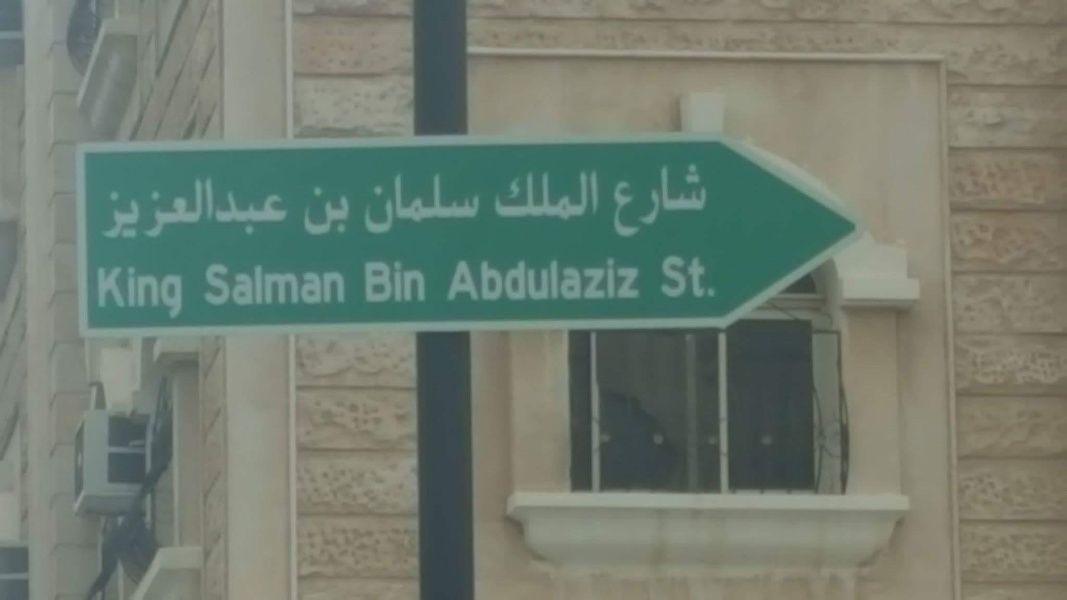text: (625, 161, 640, 240), (641, 161, 656, 240), (657, 161, 672, 240), (673, 161, 688, 240), (689, 161, 704, 240), (273, 176, 289, 241), (113, 176, 128, 241), (129, 176, 144, 241), (145, 176, 160, 241), (161, 176, 176, 241), (177, 176, 192, 241), (193, 176, 208, 241), (209, 176, 224, 241), (225, 176, 240, 241), (241, 176, 256, 241), (257, 176, 272, 241), (369, 171, 384, 235), (385, 171, 400, 235), (401, 171, 416, 235), (417, 171, 432, 235), (433, 171, 448, 235), (449, 171, 464, 235), (465, 171, 480, 235), (612, 161, 624, 240), (97, 263, 112, 320), (113, 263, 128, 320), (129, 263, 144, 320), (145, 263, 160, 320), (161, 263, 176, 320), (497, 167, 512, 223), (513, 167, 528, 223), (529, 167, 544, 223), (545, 167, 560, 223), (561, 167, 576, 223), (577, 167, 592, 223), (305, 184, 320, 238), (321, 184, 336, 238), (337, 184, 352, 238), (673, 253, 688, 302), (689, 253, 704, 302), (449, 255, 464, 304), (465, 255, 480, 304), (481, 255, 496, 304), (497, 255, 512, 304), (513, 255, 528, 304), (529, 255, 544, 304), (545, 255, 560, 304), (561, 255, 576, 304), (577, 255, 592, 304), (593, 255, 608, 304), (609, 255, 624, 304), (625, 255, 640, 304), (101, 176, 112, 241), (369, 258, 384, 304), (385, 258, 400, 304), (401, 258, 416, 304), (209, 264, 224, 308), (225, 264, 240, 308), (241, 264, 256, 308), (257, 264, 272, 308), (273, 264, 288, 308), (289, 264, 304, 308), (305, 264, 320, 308), (321, 264, 336, 308), (659, 253, 672, 302), (417, 258, 428, 304), (705, 253, 715, 302), (177, 263, 185, 320), (337, 264, 347, 308), (593, 167, 600, 223), (364, 171, 368, 235), (705, 161, 708, 240), (203, 264, 208, 308), (364, 258, 368, 304), (445, 255, 448, 304), (302, 184, 304, 238), (481, 171, 482, 235), (495, 167, 496, 223), (641, 255, 642, 304)
